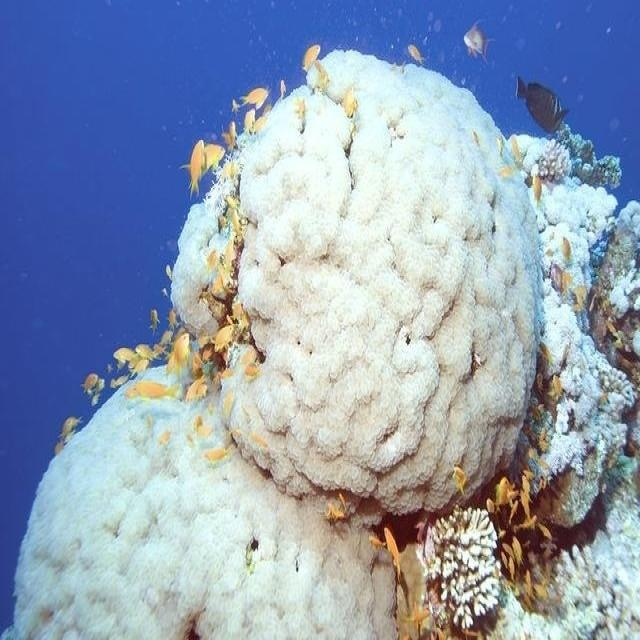fish: (124, 332, 190, 399), (514, 75, 573, 133), (465, 19, 497, 65), (191, 139, 207, 198), (238, 87, 268, 112), (302, 43, 320, 74)
reefs: (0, 50, 553, 639), (508, 135, 639, 488), (485, 456, 639, 639), (421, 504, 502, 630)
